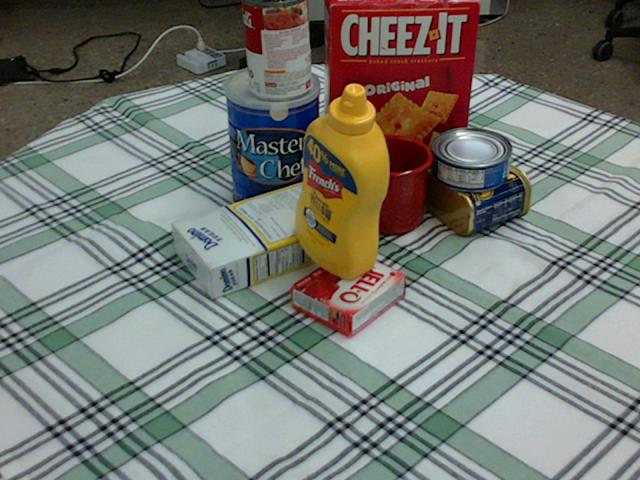cracker_box: (325, 0, 480, 181)
gelatin_box: (292, 248, 406, 336)
master_chef_can: (223, 64, 320, 218)
mug: (347, 132, 434, 233)
mustard_bottle: (295, 83, 388, 279)
potted_meat_can: (415, 141, 529, 232)
sugar_box: (169, 176, 360, 298)
tomato_soup_can: (242, 0, 311, 99)
tuna_fish_can: (431, 128, 511, 190)
